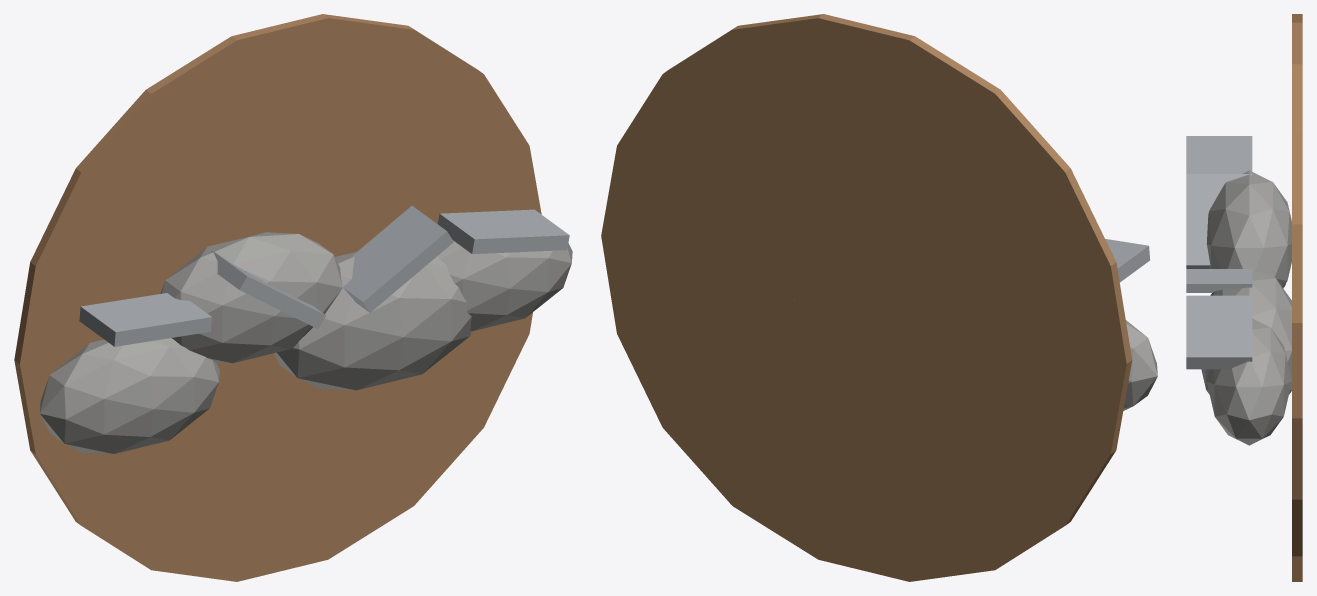
The model's file is 02_display_prop_cluster.glb.
3 renders of one model, left to right at view 1: azimuth 30°, elevation 25°; view 2: azimuth 150°, elevation 25°; view 3: azimuth 270°, elevation 25°, orthographic. The views are drawn at different scales.
Visible parts, largest first — view 1: scatter_base, scrap_rock_0, scrap_rock_2, scrap_rock_1, scrap_rock_3, scrap_plate_2, scrap_plate_0, scrap_plate_3, scrap_plate_1; view 2: scatter_base, scrap_rock_0, scrap_plate_0; view 3: scrap_rock_1, scrap_rock_3, scatter_base, scrap_plate_3, scrap_rock_2, scrap_plate_1, scrap_plate_0, scrap_plate_2.
Part boxes in pixels (x1,y1,x2,y2): scatter_base: [14, 14, 541, 581]; scrap_rock_0: [40, 338, 219, 453]; scrap_rock_2: [274, 251, 471, 390]; scrap_rock_1: [160, 232, 342, 363]; scrap_rock_3: [438, 240, 572, 331]; scrap_plate_2: [343, 206, 453, 312]; scrap_plate_0: [79, 293, 211, 346]; scrap_plate_3: [438, 209, 569, 254]; scrap_plate_1: [211, 250, 326, 329]; scatter_base: [601, 14, 1132, 581]; scrap_rock_0: [1123, 320, 1157, 410]; scrap_plate_0: [1105, 239, 1149, 282]; scrap_rock_1: [1206, 170, 1291, 287]; scrap_rock_3: [1206, 318, 1291, 445]; scatter_base: [1292, 14, 1302, 581]; scrap_plate_3: [1186, 295, 1252, 369]; scrap_rock_2: [1201, 271, 1291, 394]; scrap_plate_1: [1186, 174, 1252, 268]; scrap_plate_0: [1186, 136, 1252, 173]; scrap_plate_2: [1186, 269, 1252, 292].
Size of the model in its own units: 1.93 by 1.87 by 0.3879.
